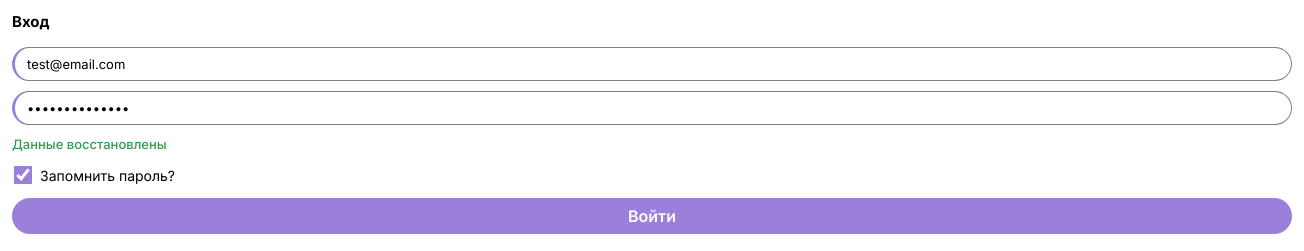
Test: AuthForm › запомнить пароль › после отправки сообщение о восстановлении данных пропадает
Click the button "Войти" at (652, 216), box [12,198,1292,234]
Wait 800 ms
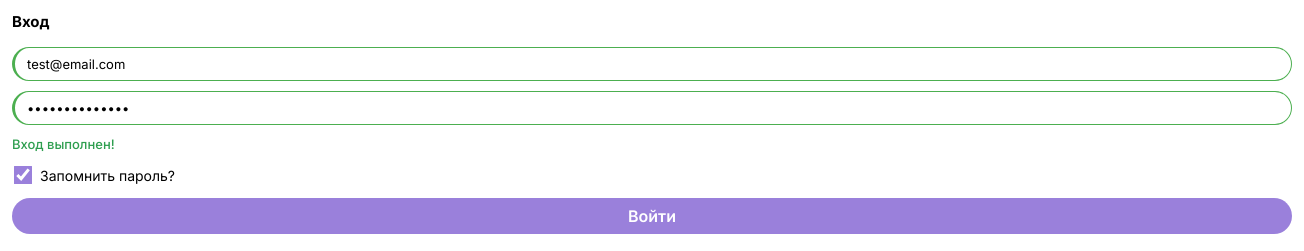
Expected: the text "Данные восстановлены" is gone
